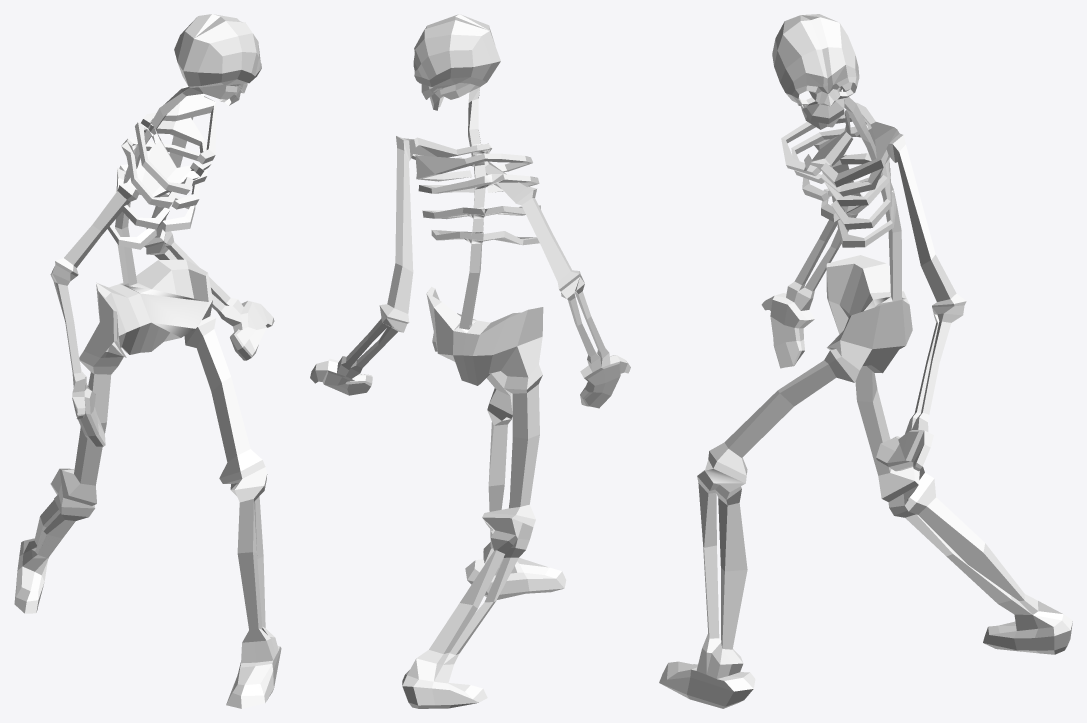
The model's file is SkeletonIdle(38).obj.
3 views of the same model, side by side, from view 1: azimuth 30°, elevation 25°; view 2: azimuth 150°, elevation 25°; view 3: azimuth 270°, elevation 25° (orthographic). The views are drawn at different scales.
Parts seen in each view (by area): view 1: Object002; view 2: Object002; view 3: Object002.
Boxes of the visible parts, x1,y1,x2,y2 form: Object002: [14, 14, 281, 708]; Object002: [310, 14, 630, 708]; Object002: [659, 14, 1072, 708].
Bounding box in the file's own units: 486 × 1108 × 609.
